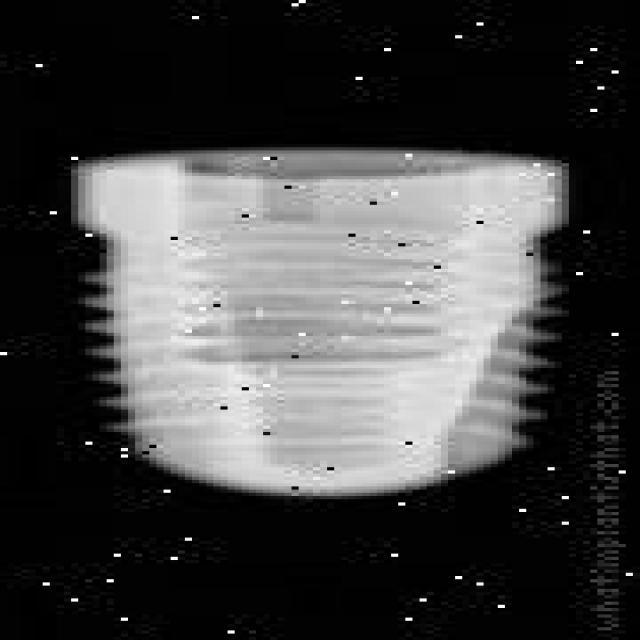Root canal obturation: (71, 150, 569, 506)
